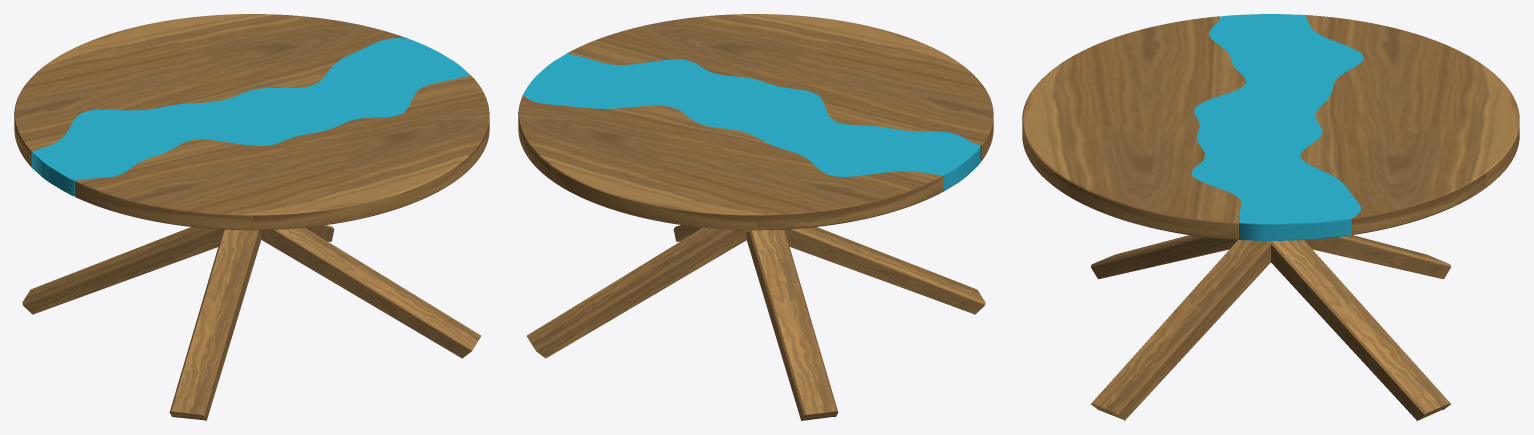
Rendered from round-elm-epoxy-ocean.glb.
The picture shows the model from 3 angles, left to right: view 1: azimuth 30°, elevation 25°; view 2: azimuth 150°, elevation 25°; view 3: azimuth 270°, elevation 25°; orthographic projection. The views are drawn at different scales.
Visible parts, largest first — view 1: Wood_Round_EpoxyFar, Wood_Round_EpoxyNear, Resin_Round, Base_Round; view 2: Wood_Round_EpoxyNear, Wood_Round_EpoxyFar, Resin_Round, Base_Round; view 3: Wood_Round_EpoxyFar, Wood_Round_EpoxyNear, Resin_Round, Base_Round.
Boxes of the visible parts, x1,y1,x2,y2 form: Wood_Round_EpoxyFar: (75,75,489,230); Wood_Round_EpoxyNear: (14,14,406,166); Resin_Round: (31,38,470,196); Base_Round: (22,225,481,420); Wood_Round_EpoxyNear: (518,95,943,230); Wood_Round_EpoxyFar: (567,14,993,161); Resin_Round: (523,53,980,191); Base_Round: (526,225,985,420); Wood_Round_EpoxyFar: (1022,16,1245,239); Wood_Round_EpoxyNear: (1300,15,1519,235); Resin_Round: (1191,14,1363,240); Base_Round: (1091,235,1450,420).
Bounding box in the file's own units: 1.52 × 0.762 × 1.52.
Materials: 2 (1 with a texture image).
